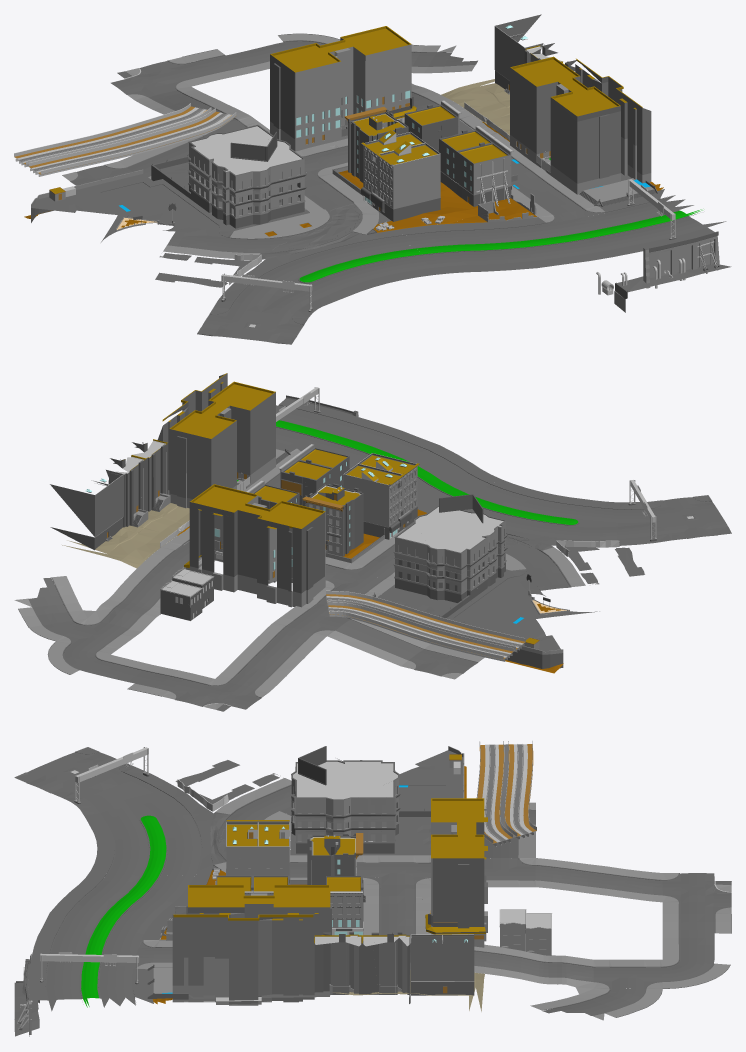
The model's file is bronx_e2_5.FBX.
3 renders of one model, top to bottom at view 1: azimuth 30°, elevation 25°; view 2: azimuth 150°, elevation 25°; view 3: azimuth 270°, elevation 25°, orthographic. The views are drawn at different scales.
Visible parts, largest first — view 1: unnamed, null; view 2: unnamed, null; view 3: unnamed, null.
Part boxes in pixels (x1,y1,x2,y2): unnamed: (14, 14, 731, 344); null: (434, 55, 642, 209); unnamed: (14, 373, 731, 711); null: (129, 373, 315, 530); unnamed: (14, 740, 731, 1036); null: (173, 885, 397, 1005).
Bounding box in the file's own units: 224 × 52.14 × 249.
